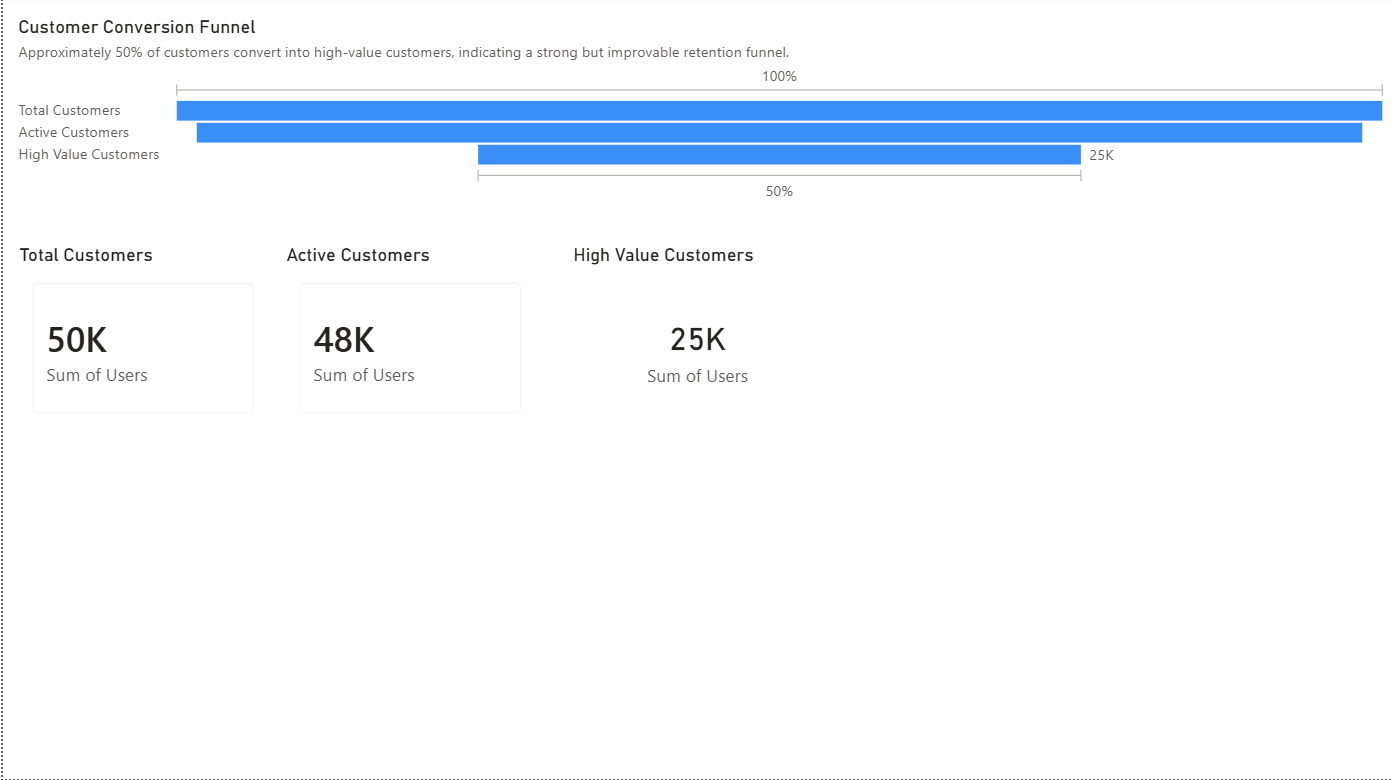

This screenshot's page, from the dashboard's own definition file:
{"tool":"powerbi","page":{"name":"Overview","canvas":[1280,720],"ordinal":0},"visuals":[{"type":"funnel","title":"Customer Conversion Funnel","fields":{"Y":["Sum(funnel_data.Users)"],"Category":["funnel_data.Stage"]},"box":[9.3,17.5,1270.7,173.9],"z":0},{"type":"cardVisual","title":"Total Customers","fields":{"Data":["Sum(funnel_data.Users)"]},"box":[10.3,227.4,238.7,173.9],"z":1000},{"type":"cardVisual","title":"Active Customers","fields":{"Data":["Sum(funnel_data.Users)"]},"box":[256.2,227.4,238.7,173.9],"z":2000},{"type":"card","title":"High Value Customers","fields":{"Values":["Sum(funnel_data.Users)"]},"box":[520.6,227.4,238.7,173.9],"z":3000}]}

Visuals, with their boxes in screenshot pixels (x1, y1, x2, y2), scaled from the page's 1280x720 canvas onto the 1393x780 screenshot:
"Customer Conversion Funnel" funnel: [10, 19, 1392, 207]
"Total Customers" cardVisual: [11, 246, 271, 435]
"Active Customers" cardVisual: [279, 246, 539, 435]
"High Value Customers" card: [567, 246, 826, 435]
